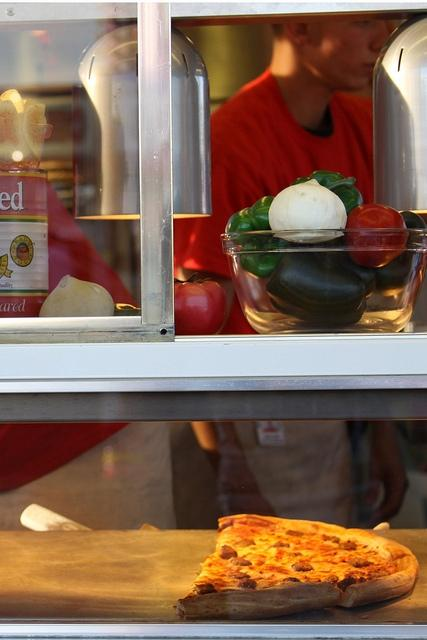bell pepper: (266, 240, 377, 327), (290, 170, 363, 217), (225, 208, 255, 245), (248, 197, 275, 230), (399, 210, 426, 228)
onion: (268, 178, 347, 244), (39, 274, 114, 318)
tomato: (174, 272, 227, 335), (345, 203, 407, 229)
